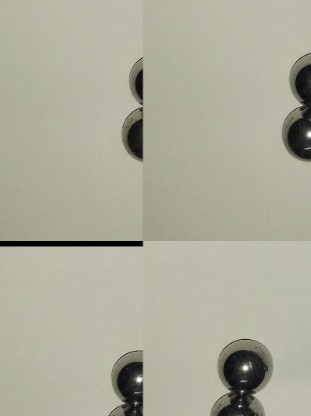ironball: (218, 336, 276, 394), (204, 384, 271, 416), (277, 100, 309, 163), (110, 348, 143, 405), (116, 103, 143, 165), (284, 46, 309, 98), (127, 55, 141, 105), (103, 401, 145, 414)
